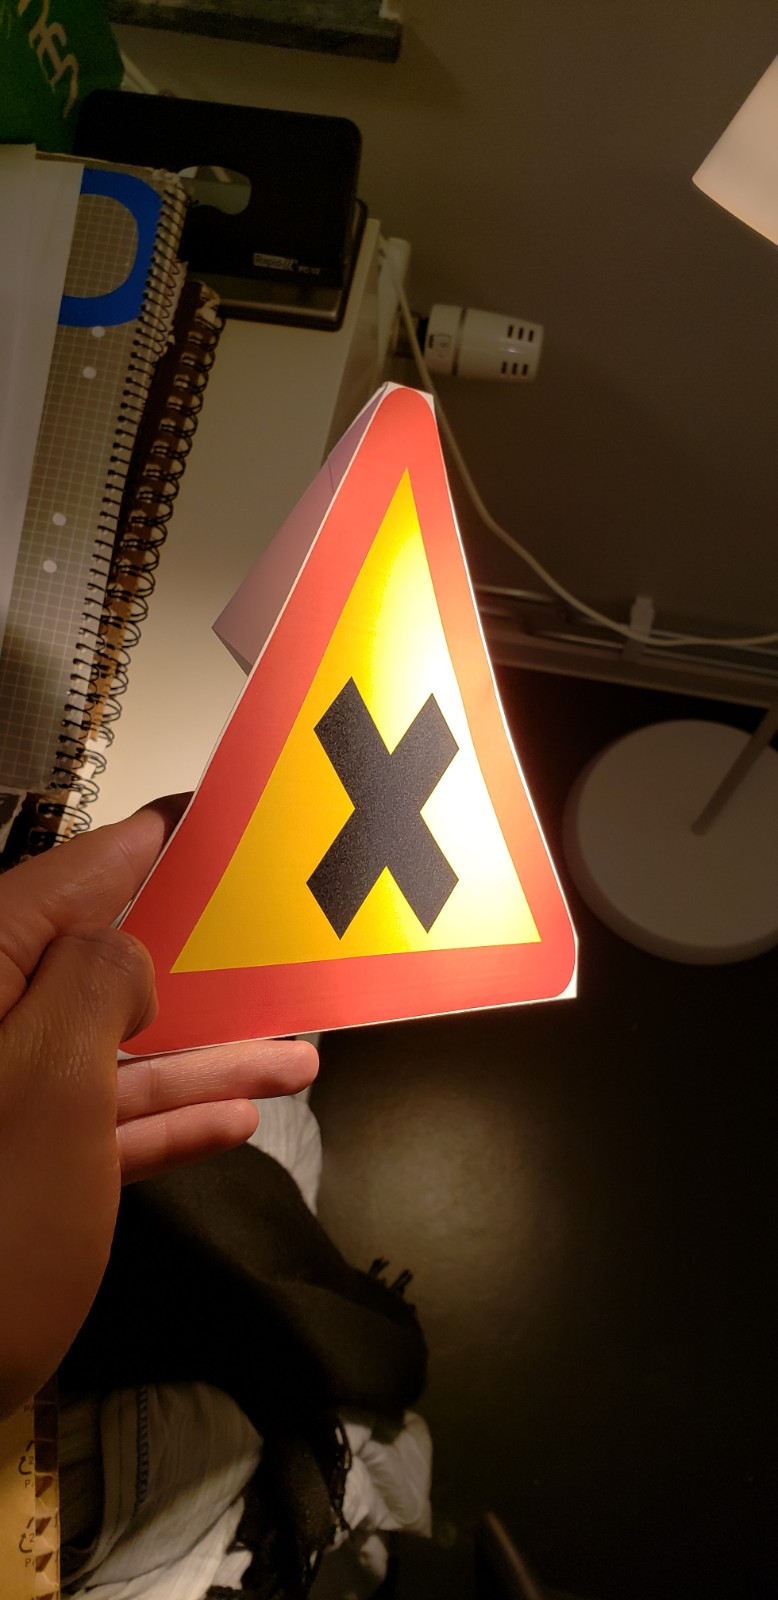junction: (134, 378, 635, 1062)
